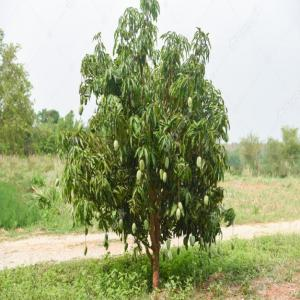Tree: (59, 6, 235, 292)
